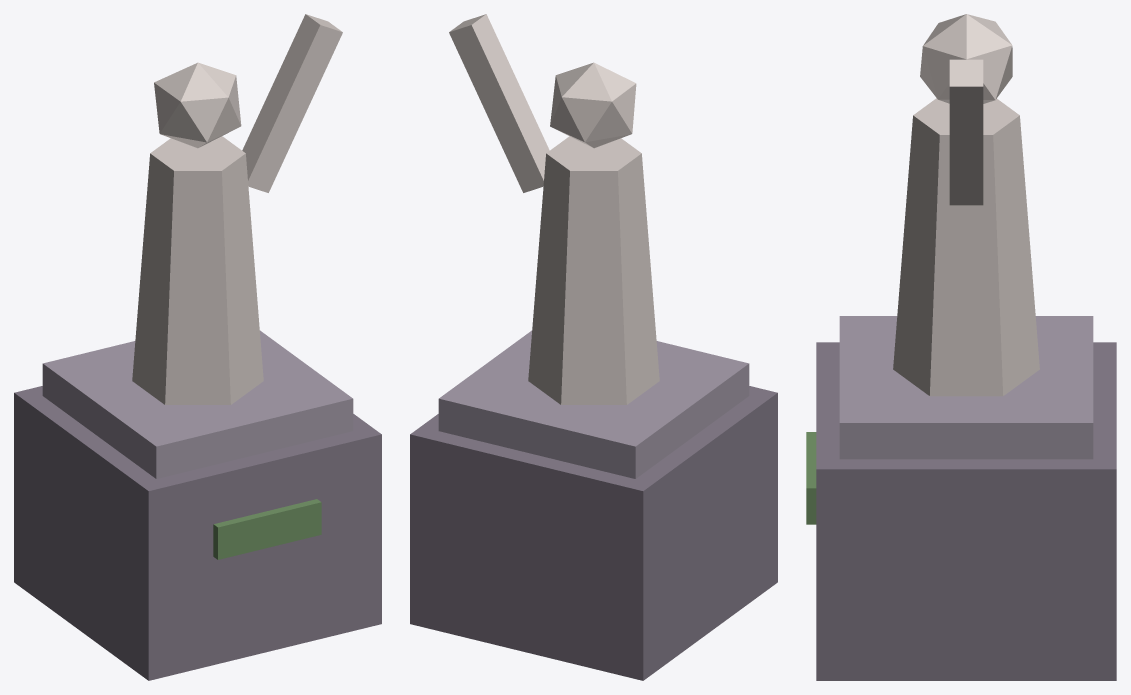
Rendered from statue.glb.
3 views of the same model, side by side, from view 1: azimuth 30°, elevation 25°; view 2: azimuth 150°, elevation 25°; view 3: azimuth 270°, elevation 25° (orthographic). The views are drawn at different scales.
Parts seen in each view (by area): view 1: pedestal, body, plinth, arm, head, detail_wreath; view 2: pedestal, body, plinth, arm, head; view 3: pedestal, body, plinth, head, arm, detail_wreath.
Boxes of the visible parts, box(x1,y1,x2,y2) form: pedestal: box(14, 386, 381, 680); body: box(132, 136, 263, 404); plinth: box(42, 330, 353, 478); arm: box(242, 14, 342, 192); head: box(154, 62, 241, 148); detail_wreath: box(213, 499, 321, 559); pedestal: box(410, 386, 777, 680); body: box(528, 136, 659, 404); plinth: box(438, 330, 749, 478); arm: box(449, 14, 549, 192); head: box(550, 62, 636, 148); pedestal: box(816, 342, 1116, 680); body: box(893, 98, 1039, 396); plinth: box(839, 316, 1093, 459); head: box(920, 14, 1012, 103); arm: box(949, 59, 983, 205); detail_wreath: box(806, 432, 816, 524).
Size of the model in its own units: 0.4908 by 1.03 by 0.465.
